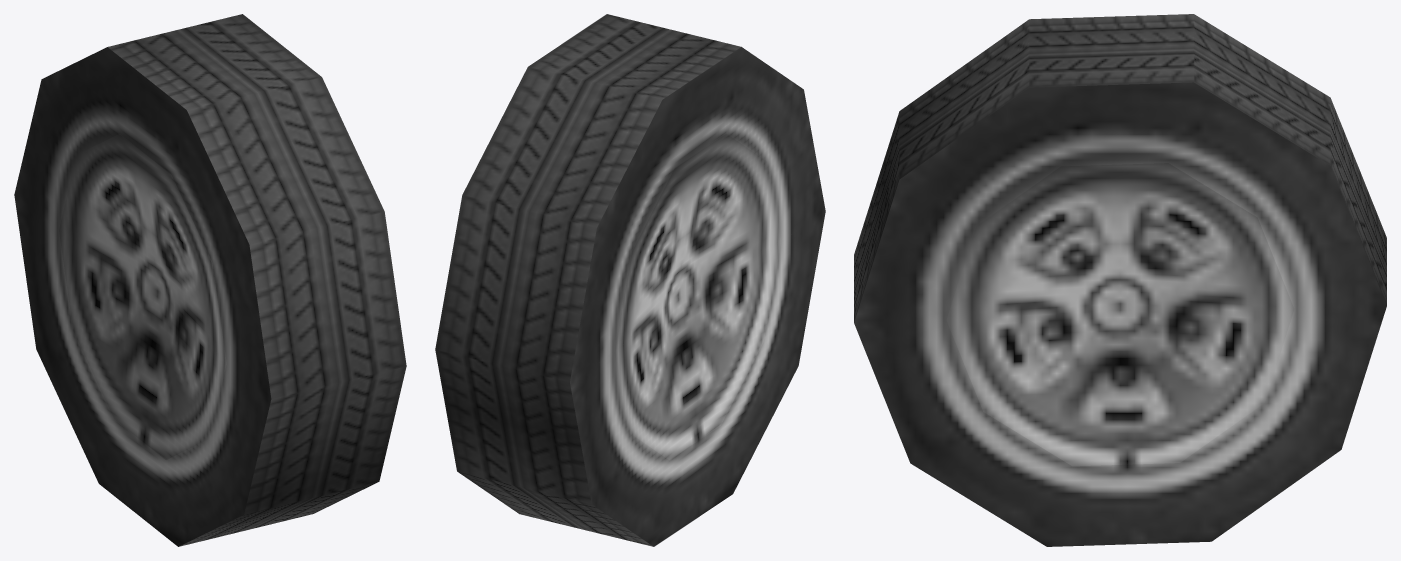
The model's file is WheelStreetRod.FBX.
3 renders of one model, left to right at view 1: azimuth 30°, elevation 25°; view 2: azimuth 150°, elevation 25°; view 3: azimuth 270°, elevation 25°, orthographic. The views are drawn at different scales.
Parts seen in each view (by area): view 1: wheelStreetRod001; view 2: wheelStreetRod001; view 3: wheelStreetRod001.
Part boxes in pixels (left/top/right/bottom): wheelStreetRod001: left=14, top=14, right=406, bottom=546; wheelStreetRod001: left=435, top=14, right=825, bottom=546; wheelStreetRod001: left=854, top=14, right=1386, bottom=546.
Bounding box in the file's own units: 23.97 × 78.89 × 75.88.
